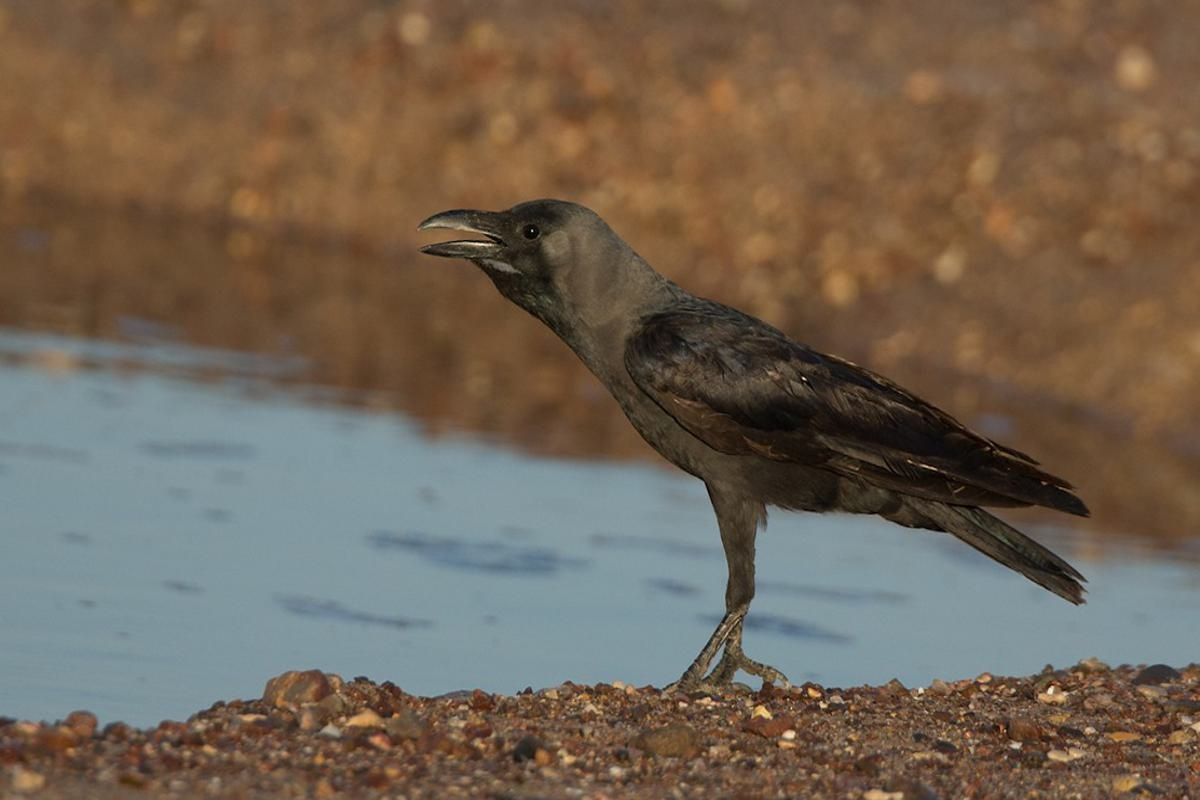crow: (407, 195, 1107, 744)
